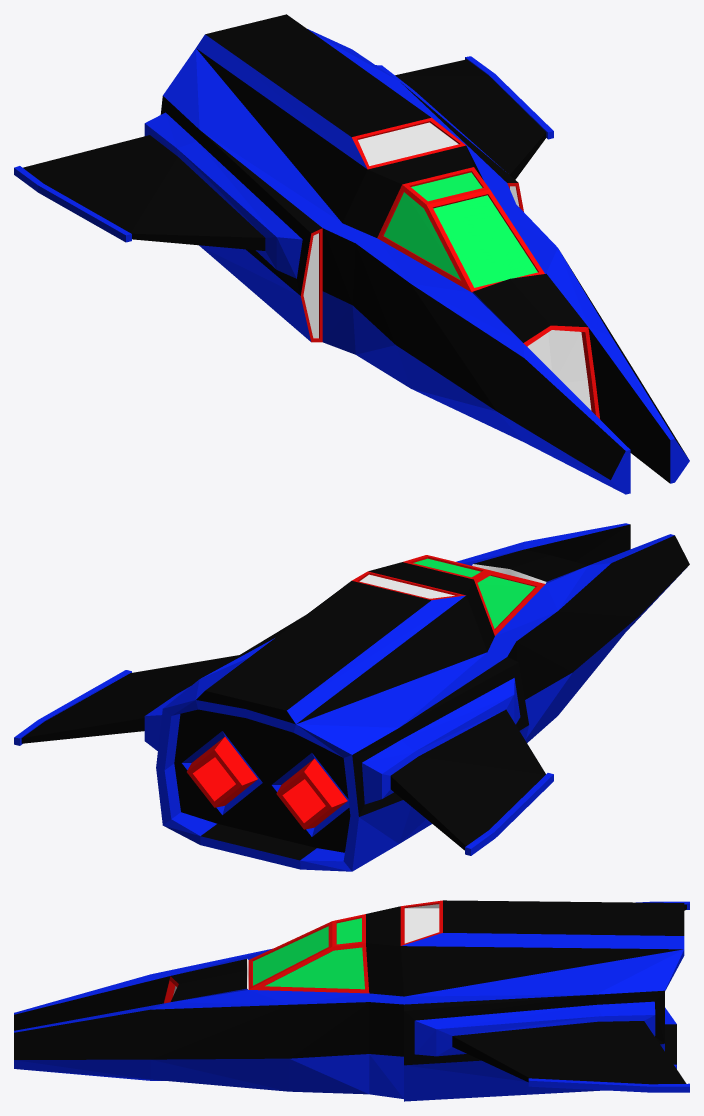
Rendered from Spaceship.FBX.
The picture shows the model from 3 angles, top to bottom: view 1: azimuth 30°, elevation 25°; view 2: azimuth 150°, elevation 25°; view 3: azimuth 270°, elevation 25°; orthographic projection. The views are drawn at different scales.
Visible parts, largest first — view 1: Box001; view 2: Box001; view 3: Box001.
Boxes of the visible parts, x1,y1,x2,y2 form: Box001: [14, 14, 689, 494]; Box001: [14, 523, 689, 871]; Box001: [14, 900, 689, 1101].
Size of the model in its own units: 34.05 by 12.93 by 52.59.
